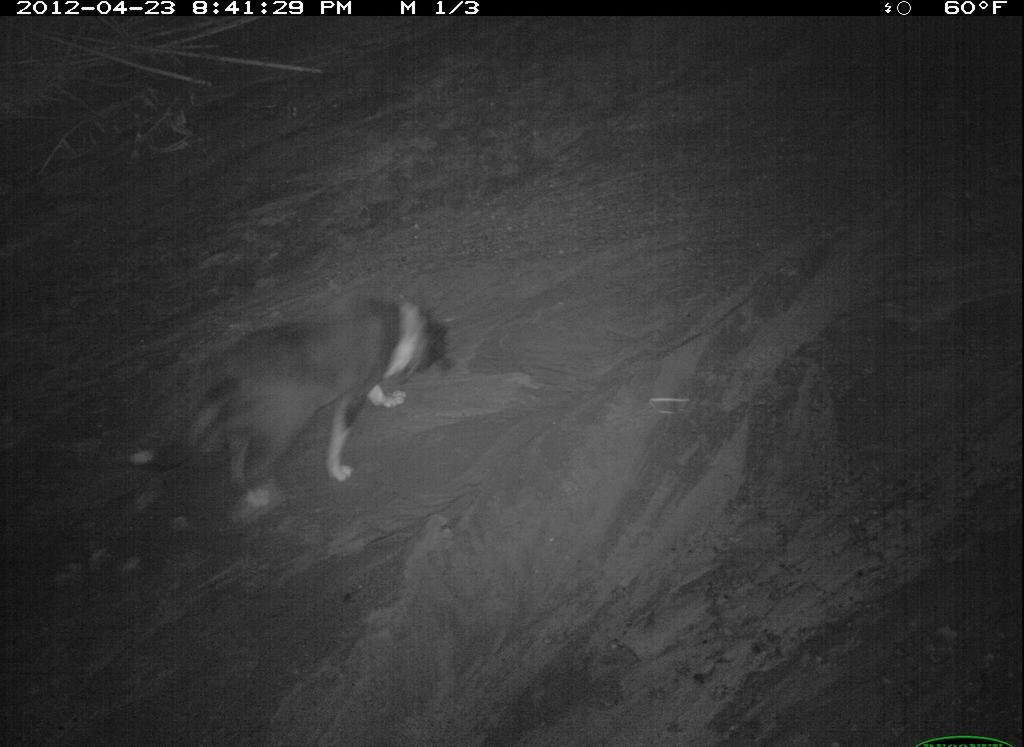dog: (246, 587, 913, 747)
